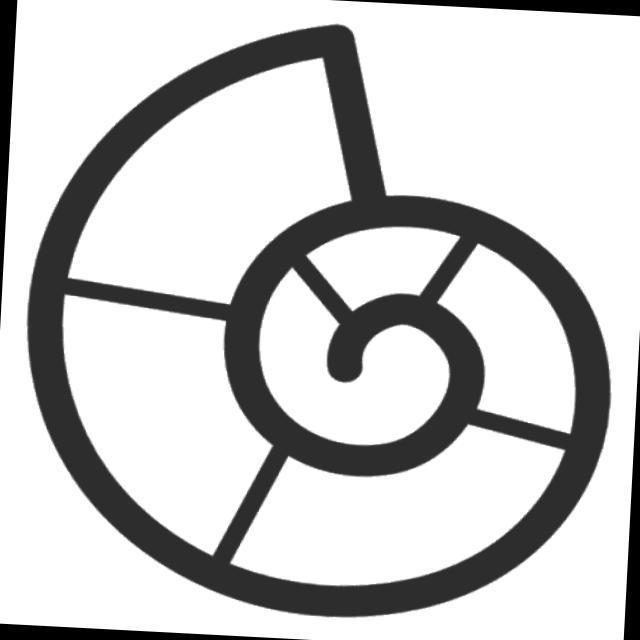fossil: (1, 1, 640, 640)
